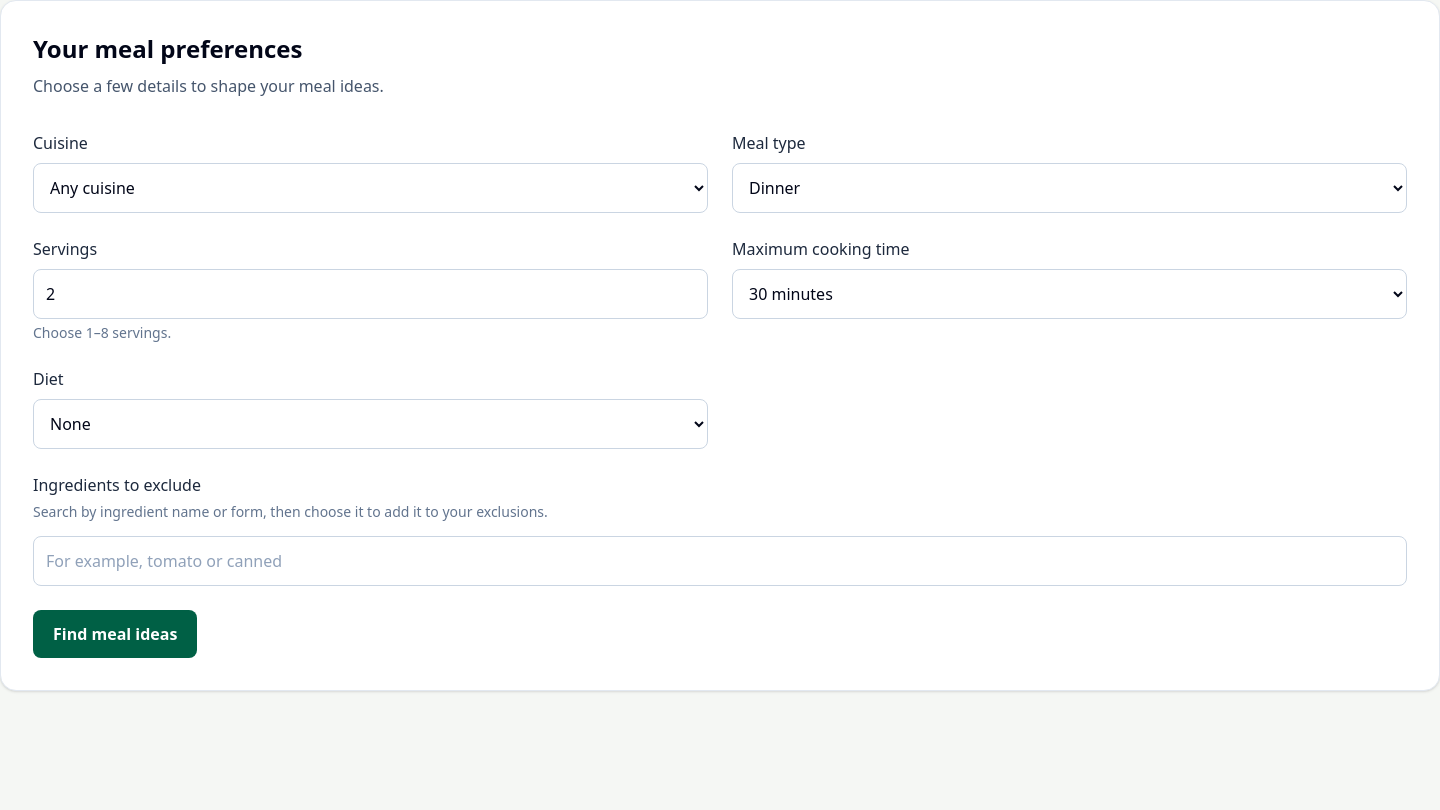
it: preference options and form › submits preferences and renders sample suggestions
Click the button "Find meal ideas" at [115, 634], box [33, 610, 197, 658]
(page scrolled)
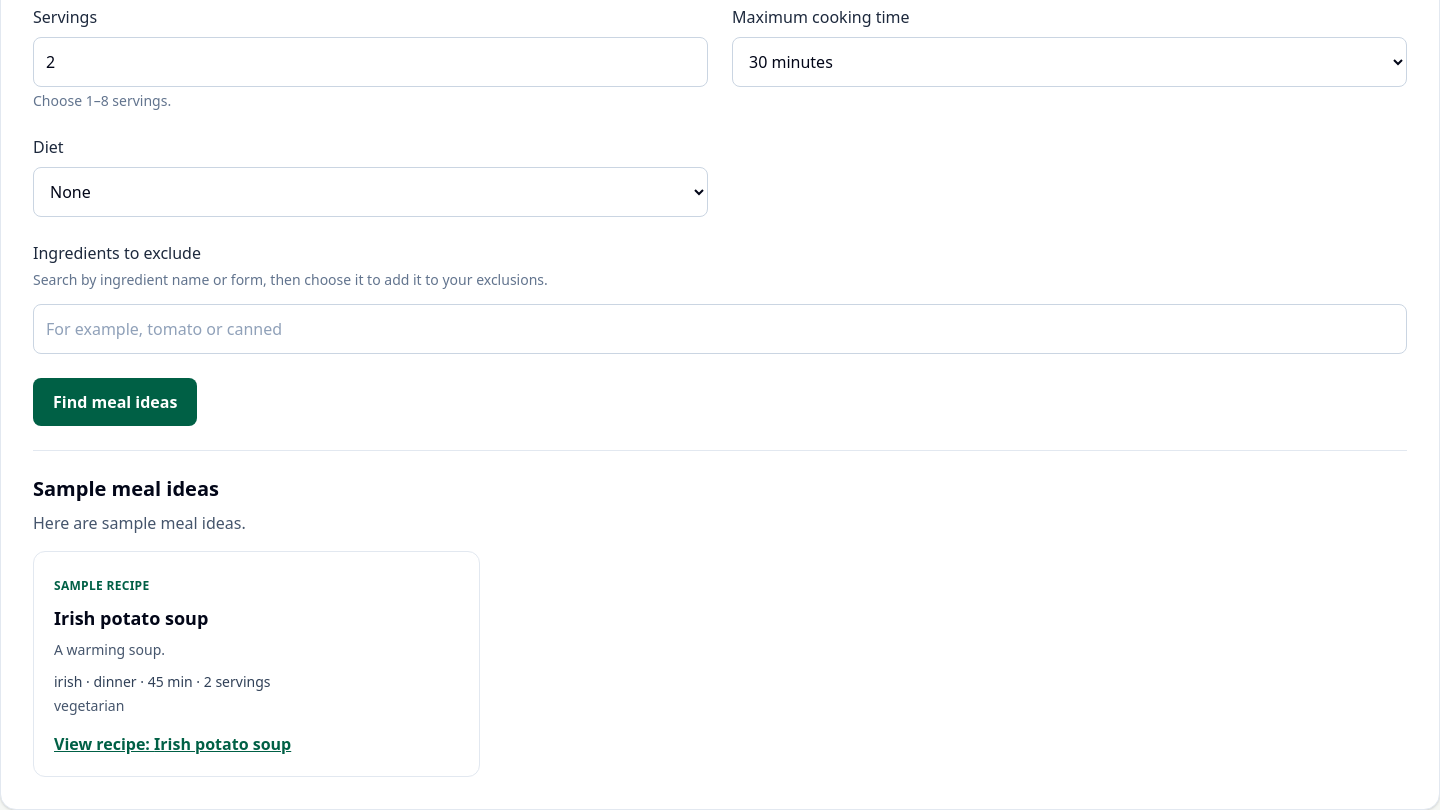
Expected: the heading "Irish potato soup" is shown, [54, 606, 208, 630]
Expected: the text "Sample recipe" is shown, [54, 577, 150, 594]
